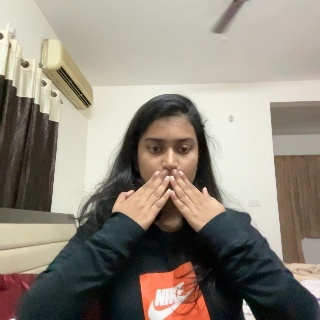Thank You: (112, 170, 240, 239)
